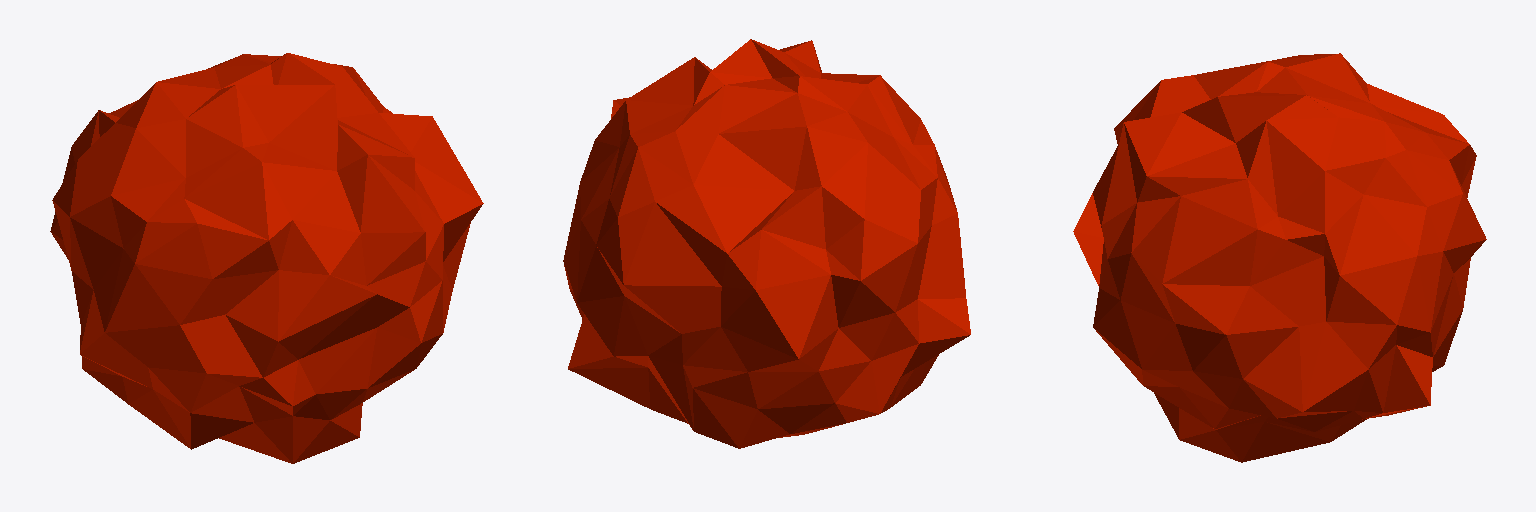
The model's file is fire.obj.
The picture shows the model from 3 angles: view 1: azimuth 30°, elevation 25°; view 2: azimuth 150°, elevation 25°; view 3: azimuth 270°, elevation 25°; orthographic projection.
Parts seen in each view (by area): view 1: Icosphere.001; view 2: Icosphere.001; view 3: Icosphere.001.
Part boxes in pixels (x1,y1,x2,y2): Icosphere.001: (50,53,483,463); Icosphere.001: (563,39,970,448); Icosphere.001: (1073,53,1486,462).
Bounding box in the file's own units: 1.12 × 1.03 × 1.06.